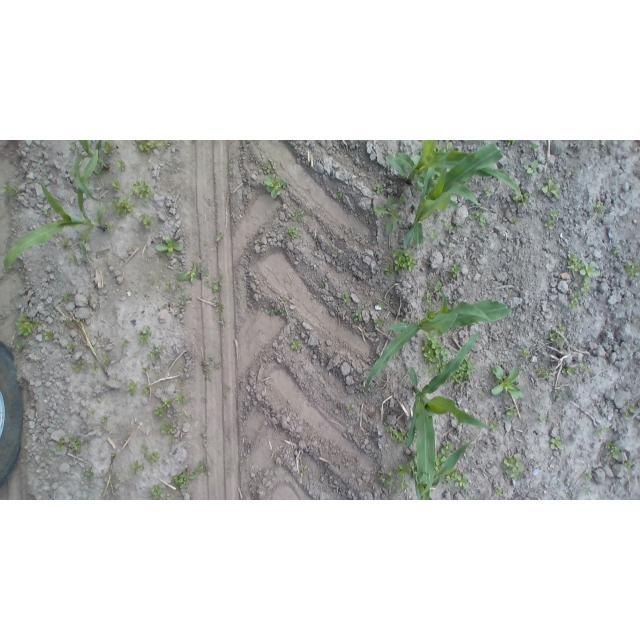Maize: (366, 288, 511, 389), (406, 329, 491, 500), (403, 140, 504, 248), (4, 177, 108, 271), (385, 140, 530, 205), (408, 441, 472, 500), (71, 140, 109, 202)
Weeds: (422, 332, 450, 377), (374, 195, 405, 235), (491, 367, 524, 400), (445, 356, 477, 384), (392, 248, 419, 273), (201, 266, 224, 292), (435, 441, 454, 472), (156, 236, 184, 257), (264, 176, 288, 199), (504, 455, 524, 482), (14, 313, 38, 335), (579, 261, 601, 285), (177, 262, 202, 283), (110, 196, 134, 217), (446, 469, 469, 490), (541, 177, 562, 200), (130, 181, 155, 199), (397, 461, 412, 490), (171, 470, 195, 488), (136, 140, 168, 153), (377, 471, 397, 490), (550, 327, 566, 348), (391, 429, 409, 446), (471, 210, 490, 226), (139, 214, 156, 231), (606, 442, 621, 461), (138, 326, 151, 347), (624, 261, 640, 278), (567, 254, 582, 271), (263, 158, 278, 174), (523, 160, 538, 176), (68, 435, 82, 452), (569, 293, 582, 311), (534, 368, 555, 379), (101, 141, 116, 156), (146, 346, 162, 360), (152, 484, 165, 501), (201, 363, 212, 383), (2, 183, 18, 196), (550, 436, 564, 450), (513, 193, 529, 205), (291, 209, 305, 222), (73, 360, 88, 372), (62, 237, 75, 250), (79, 229, 91, 243), (125, 381, 137, 395), (160, 422, 174, 434), (287, 225, 299, 239), (519, 348, 532, 360), (154, 406, 166, 418), (580, 282, 592, 294), (384, 265, 396, 277), (174, 394, 187, 405), (506, 408, 519, 419), (55, 437, 65, 451), (451, 263, 461, 277), (562, 368, 577, 377), (435, 282, 444, 297), (149, 451, 160, 463), (594, 203, 606, 214), (93, 165, 103, 178), (291, 339, 302, 350), (111, 180, 121, 192), (42, 330, 54, 340), (213, 300, 223, 312), (490, 420, 499, 433), (104, 221, 114, 232), (430, 230, 440, 241), (373, 184, 384, 194), (214, 232, 224, 243), (116, 159, 125, 171), (579, 363, 591, 372), (423, 292, 432, 304), (374, 319, 386, 328), (69, 142, 77, 155), (545, 220, 555, 230), (195, 463, 204, 474), (132, 460, 139, 474), (179, 295, 186, 309), (426, 305, 438, 313), (343, 291, 351, 303), (68, 256, 78, 265), (67, 343, 76, 353), (162, 399, 172, 408), (444, 143, 452, 154), (355, 310, 362, 322), (62, 292, 71, 301), (538, 414, 548, 422), (484, 187, 492, 197), (443, 223, 453, 231), (426, 279, 433, 290), (431, 146, 442, 153), (16, 342, 25, 350), (141, 444, 148, 454), (346, 406, 356, 413), (301, 466, 307, 477), (220, 316, 226, 327), (584, 473, 592, 481), (554, 389, 562, 397), (550, 209, 558, 217), (143, 386, 150, 395), (624, 461, 633, 468), (280, 308, 287, 317), (165, 283, 172, 292), (629, 403, 635, 413), (90, 367, 98, 374), (103, 356, 110, 364), (85, 471, 93, 478), (494, 490, 502, 497), (121, 341, 128, 348), (512, 218, 519, 225), (215, 363, 222, 370), (43, 208, 49, 216), (624, 412, 630, 420), (378, 301, 384, 309), (508, 140, 516, 146), (103, 416, 108, 425), (268, 308, 273, 317), (612, 248, 618, 255), (465, 179, 472, 185), (109, 477, 115, 484), (602, 427, 610, 432), (456, 223, 461, 231), (529, 144, 539, 148), (169, 435, 173, 444), (337, 193, 343, 199), (93, 346, 98, 353), (88, 412, 95, 417), (573, 170, 578, 177), (179, 378, 184, 384), (386, 426, 391, 432), (584, 488, 590, 493), (595, 430, 601, 435), (477, 390, 482, 396), (434, 219, 440, 224), (142, 368, 147, 373), (412, 438, 417, 443), (366, 214, 371, 219), (320, 284, 325, 289), (401, 319, 407, 323), (131, 354, 137, 358), (471, 497, 478, 500), (274, 308, 278, 313), (211, 356, 216, 360), (181, 287, 185, 292), (35, 359, 40, 363), (208, 201, 212, 206), (285, 299, 288, 305), (76, 318, 80, 322), (149, 279, 152, 282)
